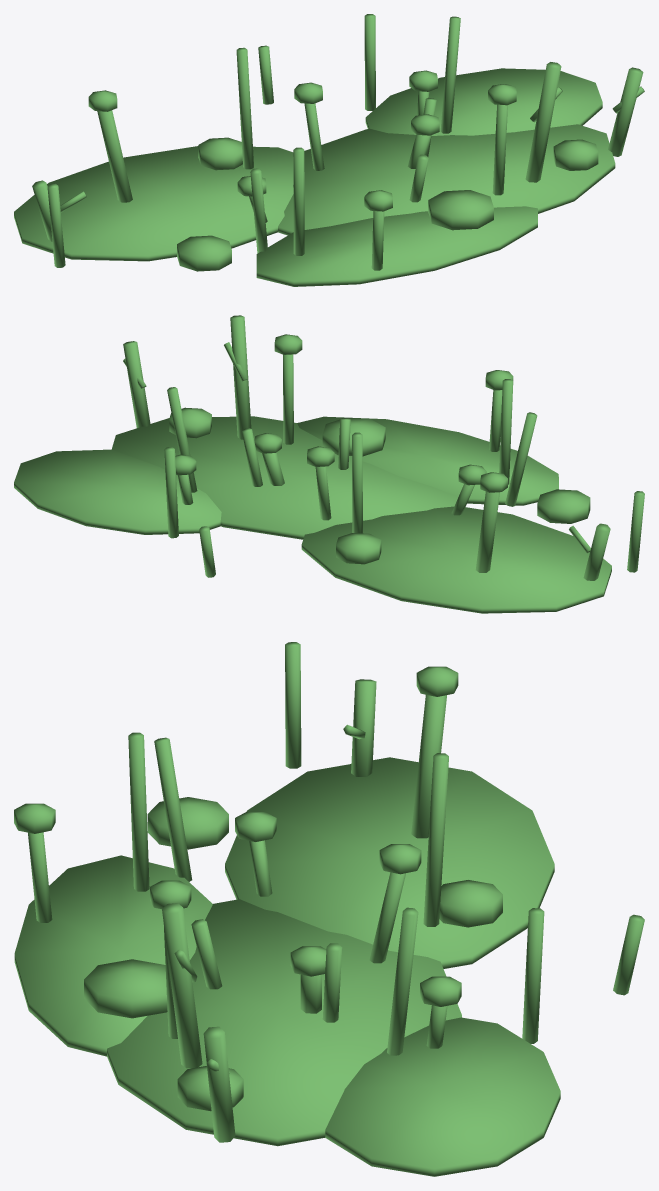
The model's file is vegetation_mat_a.obj.
The picture shows the model from 3 angles, top to bottom: view 1: azimuth 30°, elevation 25°; view 2: azimuth 150°, elevation 25°; view 3: azimuth 270°, elevation 25°; orthographic projection. The views are drawn at different scales.
Parts seen in each view (by area): view 1: vegetation_mat_a; view 2: vegetation_mat_a; view 3: vegetation_mat_a.
Part boxes in pixels (left/top/right/bottom): vegetation_mat_a: left=14, top=14, right=644, bottom=286; vegetation_mat_a: left=14, top=315, right=644, bottom=613; vegetation_mat_a: left=14, top=642, right=644, bottom=1176.
Size of the model in its own units: 8.81 by 1.79 by 5.64.
